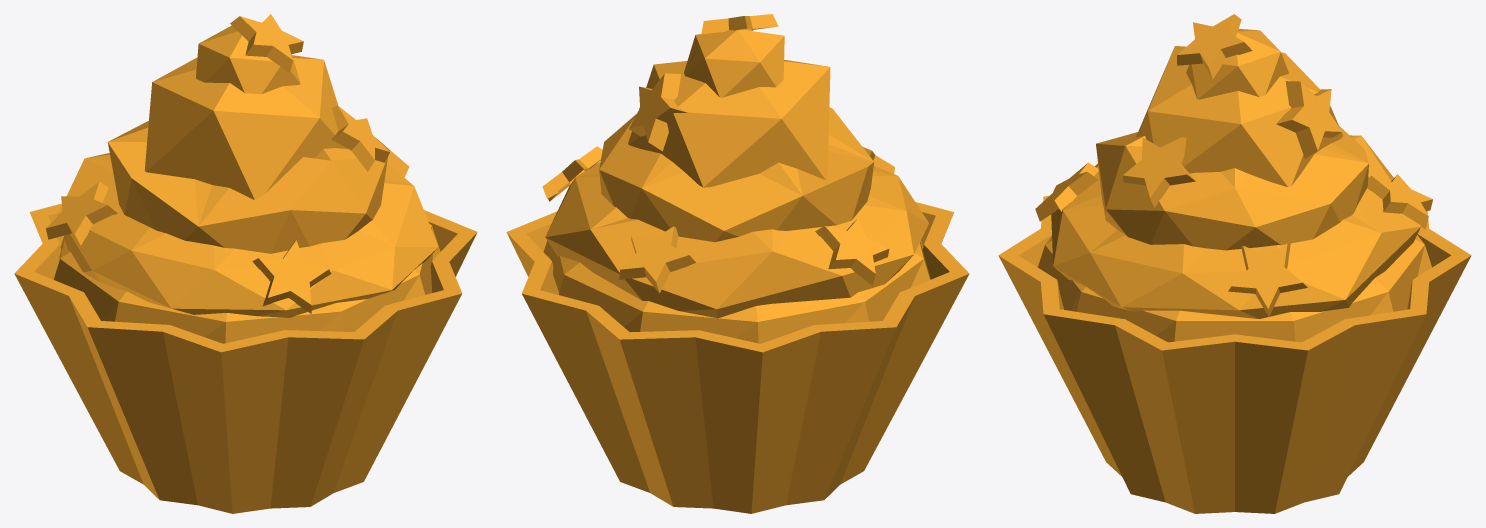
File: SM_Cupcake_4july_C.fbx
3 views of the same model, side by side, from view 1: azimuth 30°, elevation 25°; view 2: azimuth 150°, elevation 25°; view 3: azimuth 270°, elevation 25° (orthographic).
Parts seen in each view (by area): view 1: cupcake-4july-c; view 2: cupcake-4july-c; view 3: cupcake-4july-c.
Boxes of the visible parts, x1,y1,x2,y2 form: cupcake-4july-c: [14, 14, 477, 513]; cupcake-4july-c: [506, 14, 969, 513]; cupcake-4july-c: [998, 14, 1471, 513].
Size of the model in its own units: 0.0947 by 0.1033 by 0.0996.
